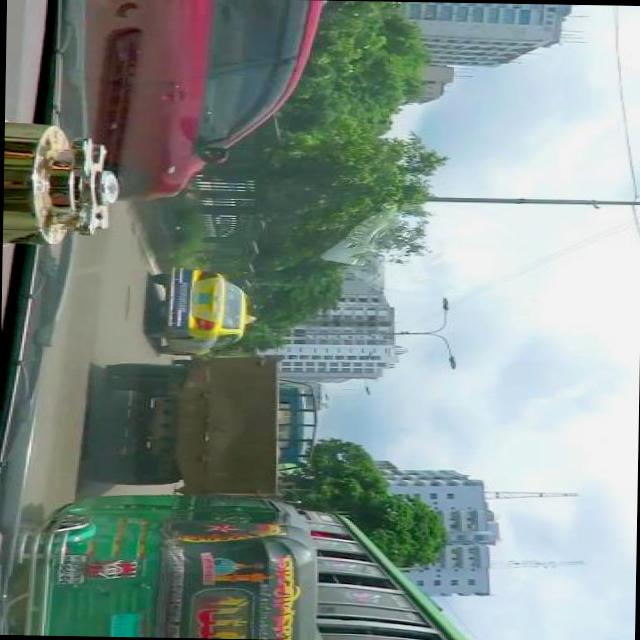car: (140, 266, 260, 358)
motorcycle: (0, 490, 329, 640)
truck: (86, 350, 319, 498)
